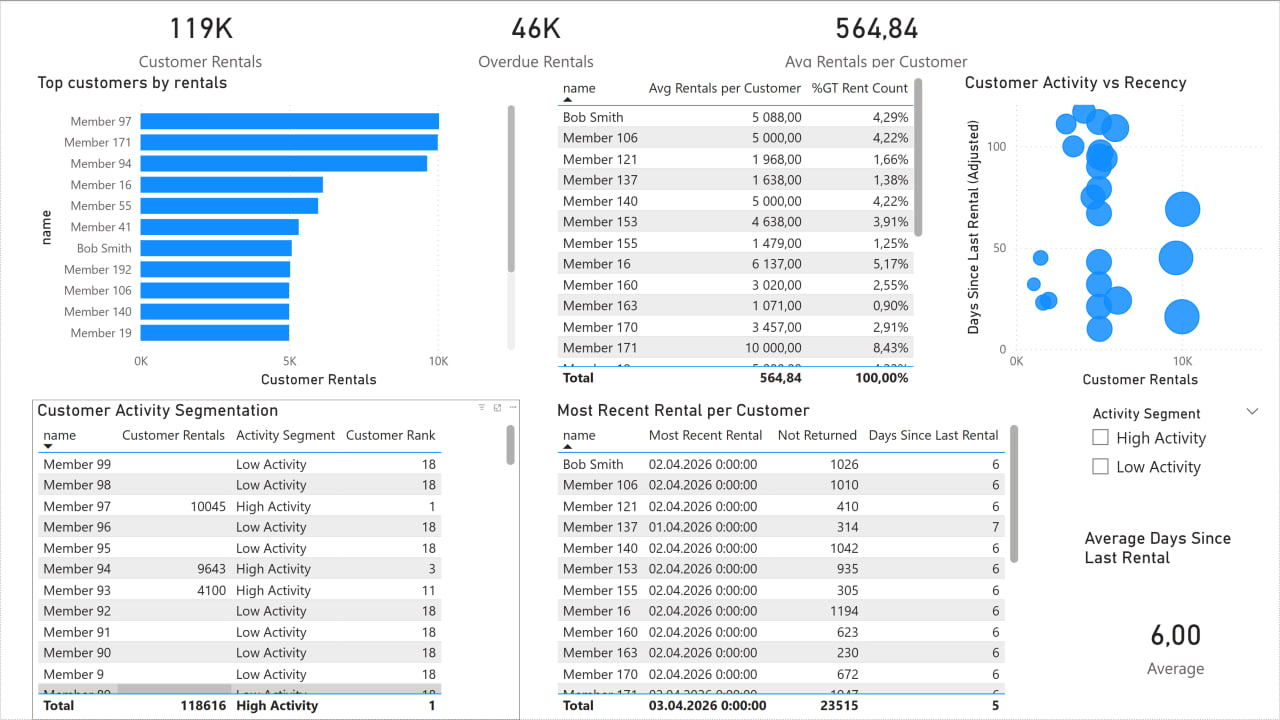

Layout of this report page (visuals, bound fields, positions):
{"tool":"powerbi","page":{"name":"Customer Insights","canvas":[1280,720],"ordinal":1},"visuals":[{"type":"tableEx","title":"Customer Activity Segmentation","fields":{"Values":["public members.name","public members.Customer Rentals","public members.Activity Segment","public members.Customer Rank"]},"box":[32,400,488,320],"z":0},{"type":"tableEx","title":"Most Recent Rental per Customer","fields":{"Values":["public members.name","public rentals.Most Recent Rental","public rentals.Not Returned","public rentals.Days Since Last Rental"]},"box":[552,400,472,320],"z":1000},{"type":"barChart","title":"Top customers by rentals","fields":{"Category":["public members.name"],"Y":["public members.Customer Rentals"]},"box":[32,72,488,320],"z":2000},{"type":"card","fields":{"Values":["public members.Customer Rentals"]},"box":[32,0,336,72],"z":3000},{"type":"card","fields":{"Values":["public rentals.Overdue Rentals"]},"box":[368,0,336,72],"z":4000},{"type":"tableEx","fields":{"Values":["public members.name","public rentals.Avg Rentals per Customer","public rentals.Rent Count"]},"box":[552,72,376,320],"z":5000},{"type":"card","fields":{"Values":["public rentals.Avg Rentals per Customer"]},"box":[704,0,344,72],"z":6000},{"type":"card","title":"Average Days Since Last Rental","fields":{"Values":["public rentals.Average Days Since Last Rental"]},"box":[1080,528,192,192],"z":7000},{"type":"slicer","fields":{"Values":["public members.Activity Segment2"]},"box":[1080,400,192,112],"z":8000},{"type":"scatterChart","title":"Customer Activity vs Recency","fields":{"X":["public members.Customer Rentals"],"Size":["public rentals.Total Rentals"],"Category":["public members.name"],"Y":["public rentals.Days Since Last Rental (Adjusted)"]},"box":[960,72,320,320],"z":9000}]}

Visuals, with their boxes in screenshot pixels (x1, y1, x2, y2), scaled from the page's 1280x720 canvas onto the 1280x720 screenshot:
"Customer Activity Segmentation" tableEx: crop(32, 400, 520, 719)
"Most Recent Rental per Customer" tableEx: crop(552, 400, 1024, 719)
"Top customers by rentals" barChart: crop(32, 72, 520, 392)
card - public members.Customer Rentals: crop(32, 0, 368, 72)
card - public rentals.Overdue Rentals: crop(368, 0, 704, 72)
tableEx - public members.name x public rentals.Avg Rentals per Customer: crop(552, 72, 928, 392)
card - public rentals.Avg Rentals per Customer: crop(704, 0, 1048, 72)
"Average Days Since Last Rental" card: crop(1080, 528, 1272, 719)
slicer - public members.Activity Segment2: crop(1080, 400, 1272, 512)
"Customer Activity vs Recency" scatterChart: crop(960, 72, 1279, 392)
